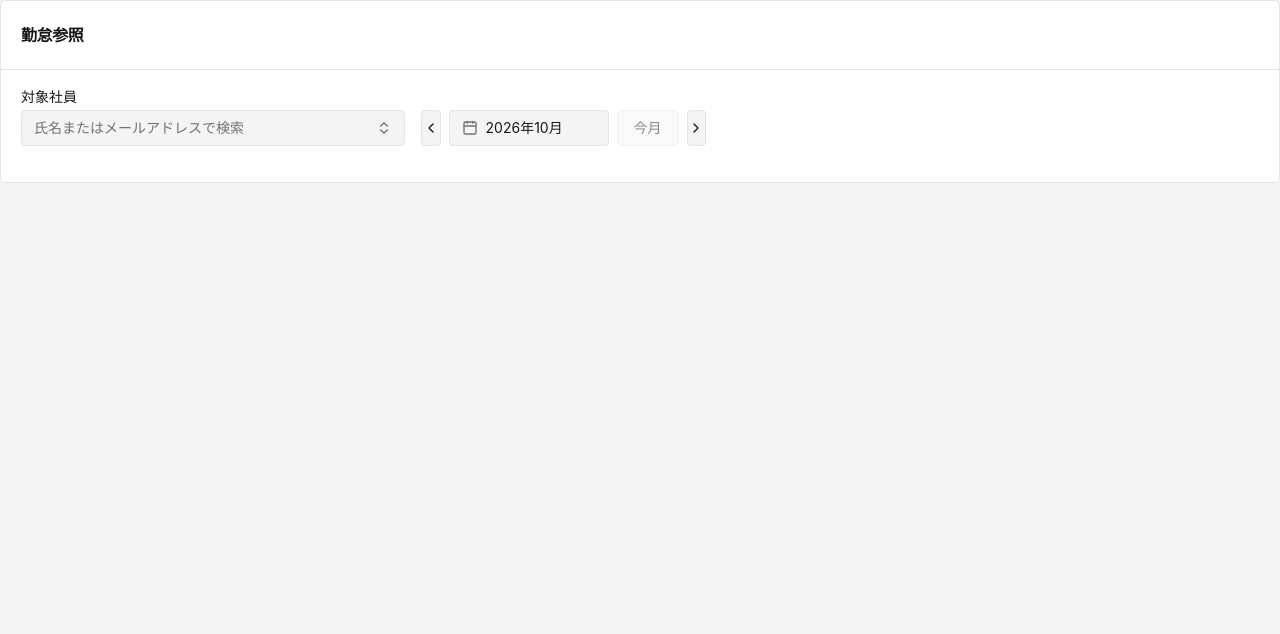
it: AttendanceReferencePage › switches to the weekly view for the selected employee
The image size is (1280, 634).
Click the dropdown. click: (213, 128)
box: [21, 110, 405, 146]
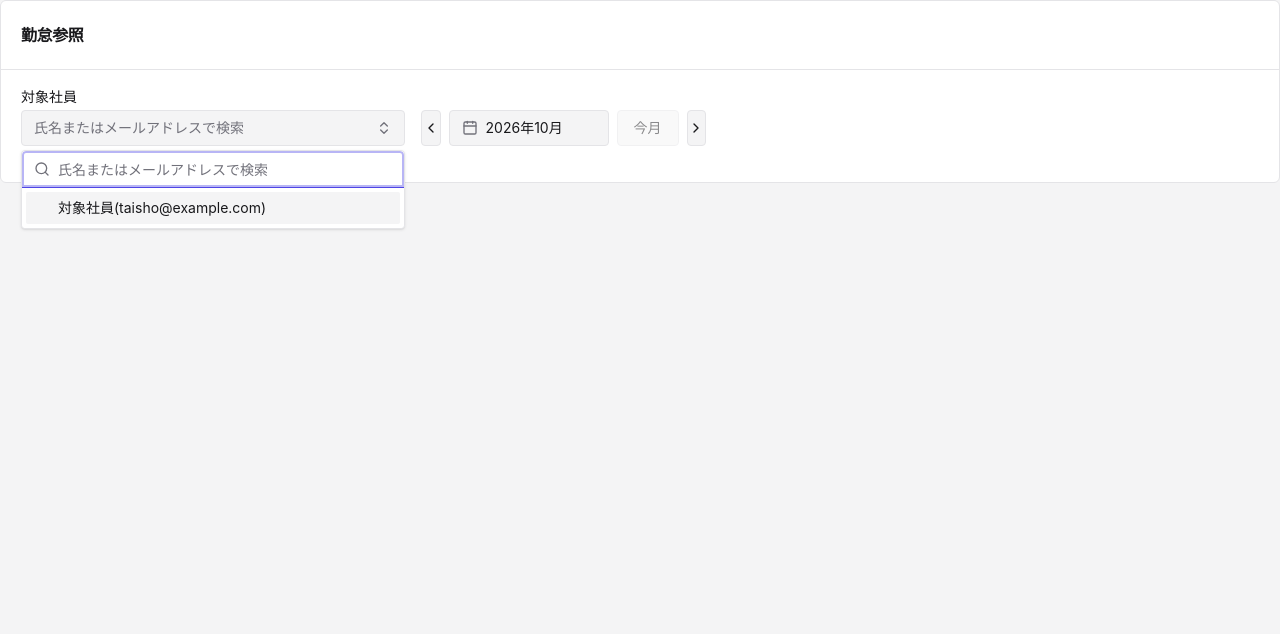
Type "対象" into the 2nd dropdown with placeholder "氏名またはメールアドレスで検索". click: (225, 169)
box: [58, 151, 392, 187]
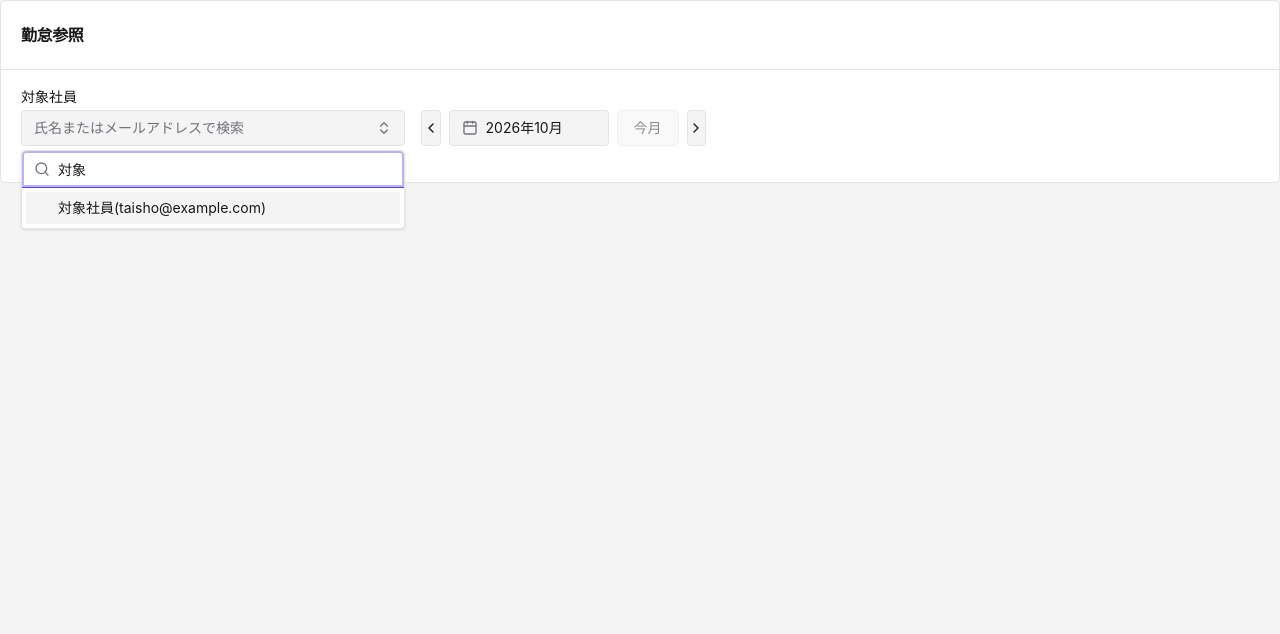
Click the option "対象社員(taisho@example.com)". click: (213, 208)
box: [26, 192, 400, 224]
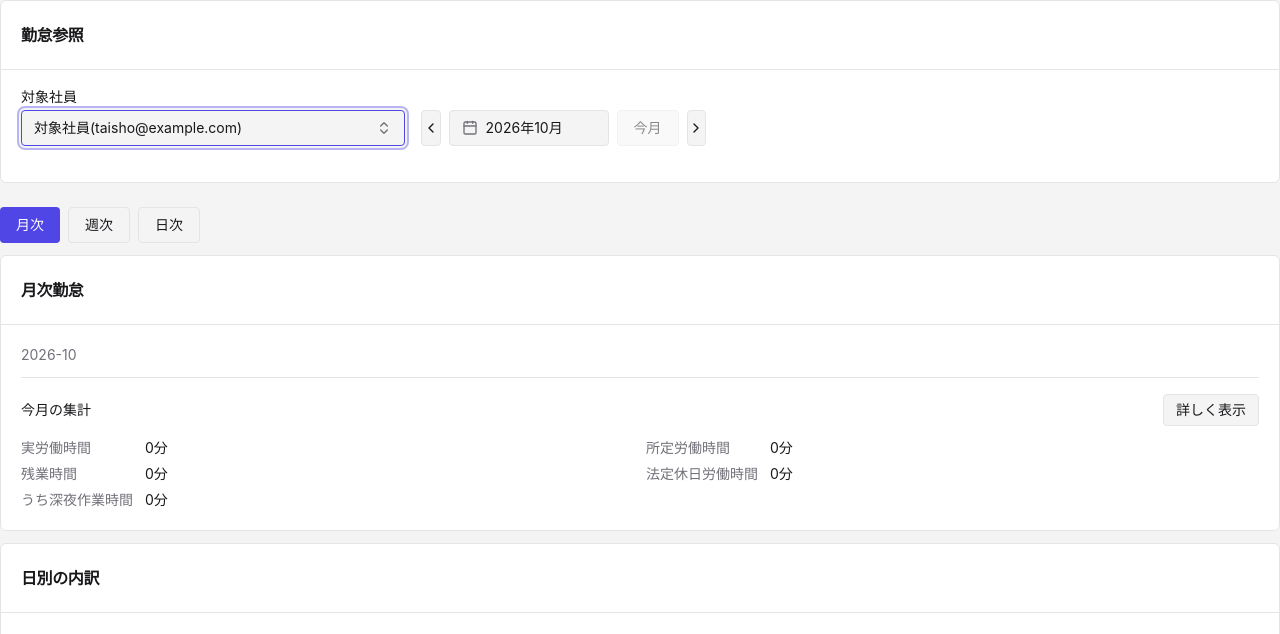
Check: the heading "月次勤怠" is shown, box [21, 280, 83, 300]
Click the button "週次". click: (99, 225)
box: [68, 207, 130, 243]
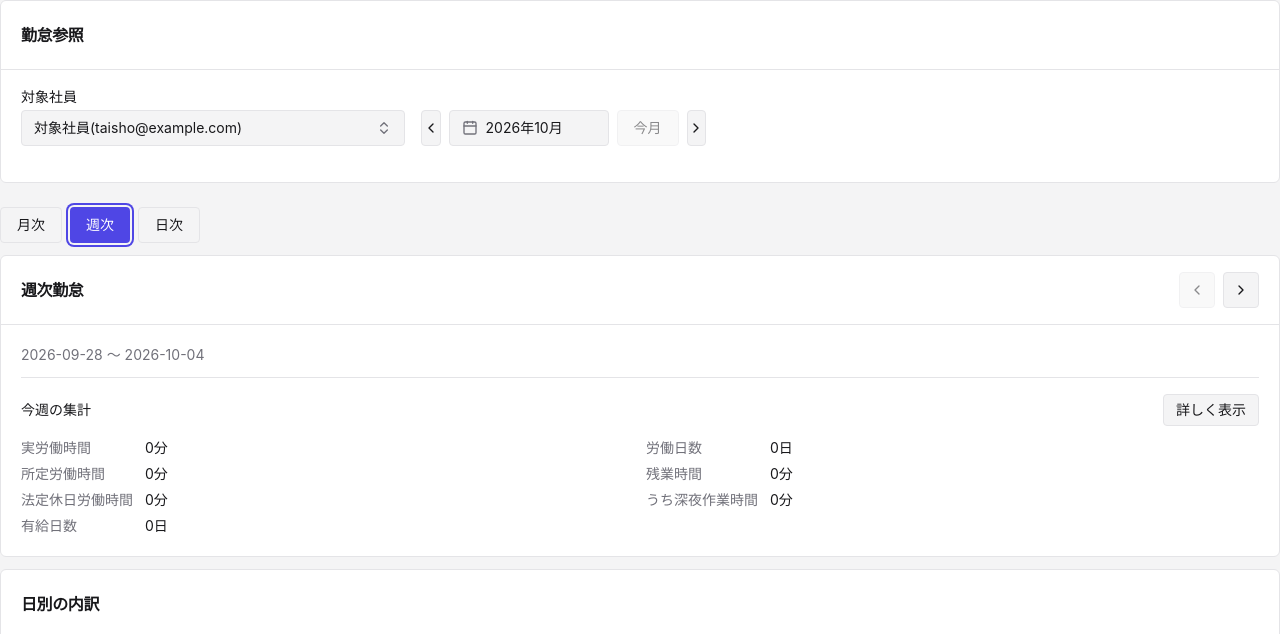
Check: the heading "週次勤怠" is shown, box [21, 280, 83, 300]
